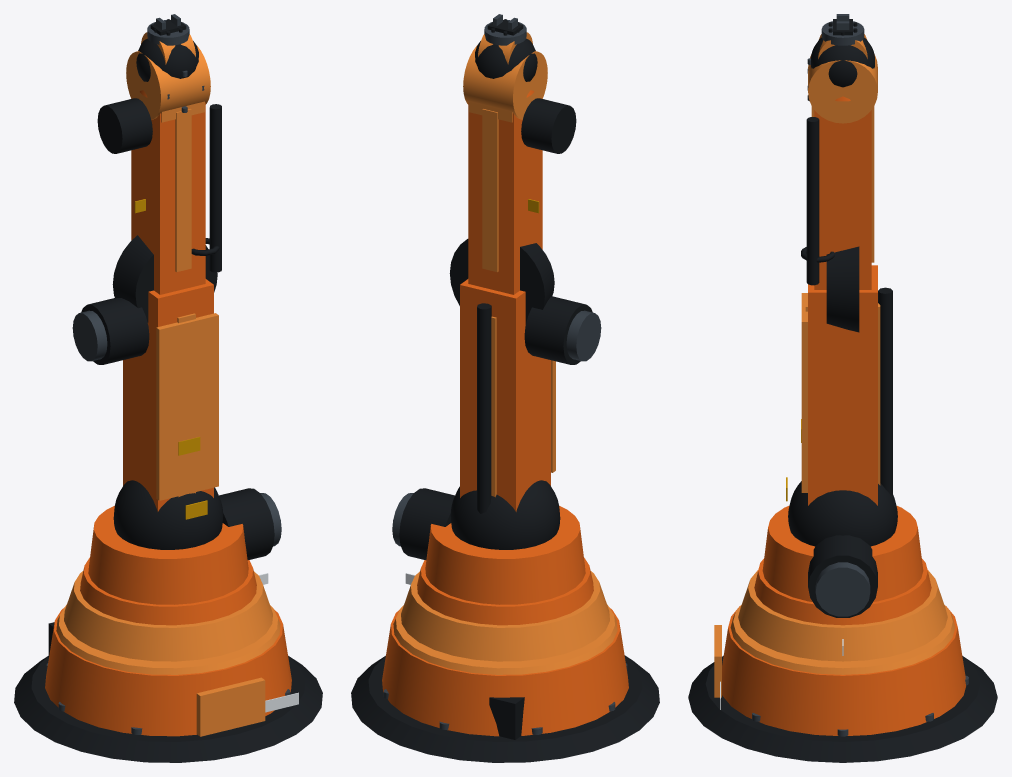
3 renders of one model, left to right at view 1: azimuth 30°, elevation 25°; view 2: azimuth 150°, elevation 25°; view 3: azimuth 270°, elevation 25°, orthographic.
Parts seen in each view (by area): view 1: base:pedestal, base:plate, link:upper-arm-panel, link:shoulder, link:forearm, joint-cover:j1, link:upper-arm, joint-cover:j2, joint-housing:j1, base:collar, joint-cover:j4, base:cover (+9 smaller); view 2: base:pedestal, link:upper-arm, base:plate, link:shoulder, link:forearm, joint-cover:j1, joint-cover:j2, joint-housing:j1, base:collar, joint-cover:j4, dress:cable-bundle, motor:j3 (+10 smaller); view 3: base:pedestal, link:upper-arm, base:plate, joint-cover:j1, link:forearm, link:shoulder, joint-cover:j2, base:collar, joint-housing:j1, joint-cover:j4, dress:cable-bundle, joint-cover:j3 (+9 smaller).
Part boxes in pixels (box(x1,y1,x2,y2)): base:pedestal: box(45, 607, 291, 736); base:plate: box(14, 655, 322, 762); link:upper-arm-panel: box(156, 313, 218, 500); link:shoulder: box(88, 506, 248, 604); link:forearm: box(131, 102, 205, 294); joint-cover:j1: box(64, 571, 272, 661); link:upper-arm: box(123, 279, 213, 511); joint-cover:j2: box(113, 480, 223, 549); joint-housing:j1: box(80, 557, 256, 625); base:collar: box(56, 604, 280, 674); joint-cover:j4: box(126, 45, 210, 119); base:cover: box(196, 677, 265, 736); base:pedestal: box(382, 607, 628, 736); link:upper-arm: box(460, 279, 550, 511); base:plate: box(351, 655, 659, 762); link:shoulder: box(425, 506, 585, 604); link:forearm: box(468, 102, 542, 294); joint-cover:j1: box(401, 571, 609, 661); joint-cover:j2: box(450, 480, 560, 549); joint-housing:j1: box(417, 557, 593, 625); base:collar: box(393, 604, 617, 674); joint-cover:j4: box(463, 45, 547, 119); dress:cable-bundle: box(477, 303, 491, 513); motor:j3: box(524, 296, 592, 364); base:pedestal: box(722, 606, 965, 735); link:upper-arm: box(808, 265, 877, 505); base:plate: box(688, 656, 997, 762); joint-cover:j1: box(738, 570, 947, 661); link:forearm: box(814, 110, 871, 289); link:shoulder: box(762, 506, 923, 601); joint-cover:j2: box(788, 481, 897, 546); base:collar: box(730, 605, 955, 674); joint-housing:j1: box(754, 558, 931, 625); joint-cover:j4: box(808, 54, 877, 123); dress:cable-bundle: box(878, 287, 892, 495); joint-cover:j3: box(826, 246, 859, 332).
Size of the model in its own units: 1.55 by 3.75 by 1.55.
